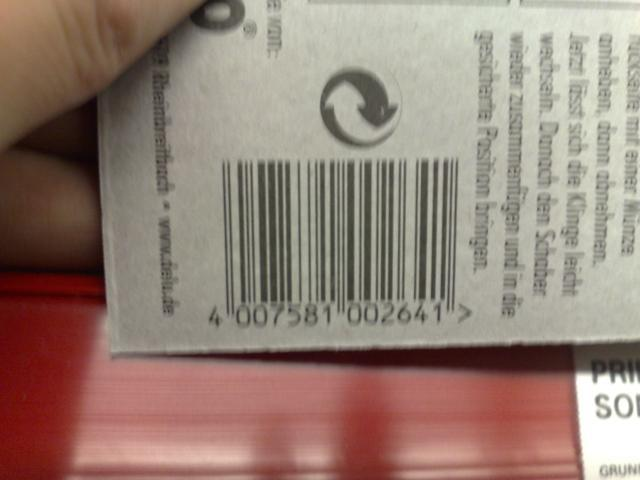Barcode: (196, 149, 472, 331)
